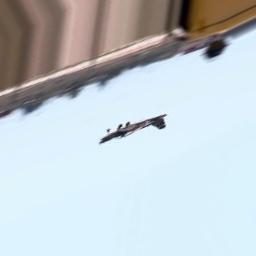Airplane: (98, 113, 169, 145)
